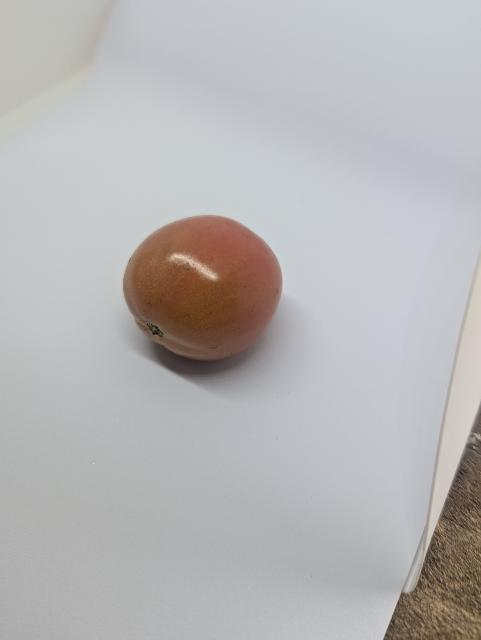turning: (110, 198, 318, 386)
